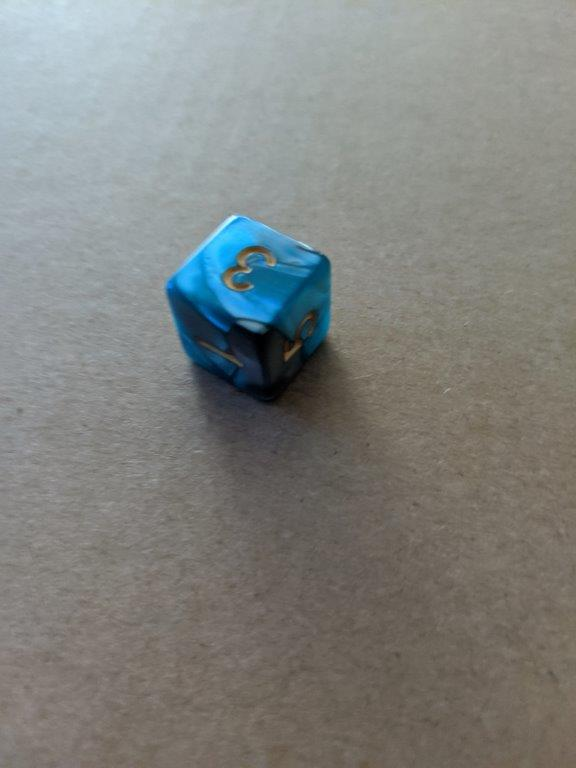d6-3: (165, 212, 331, 404)
